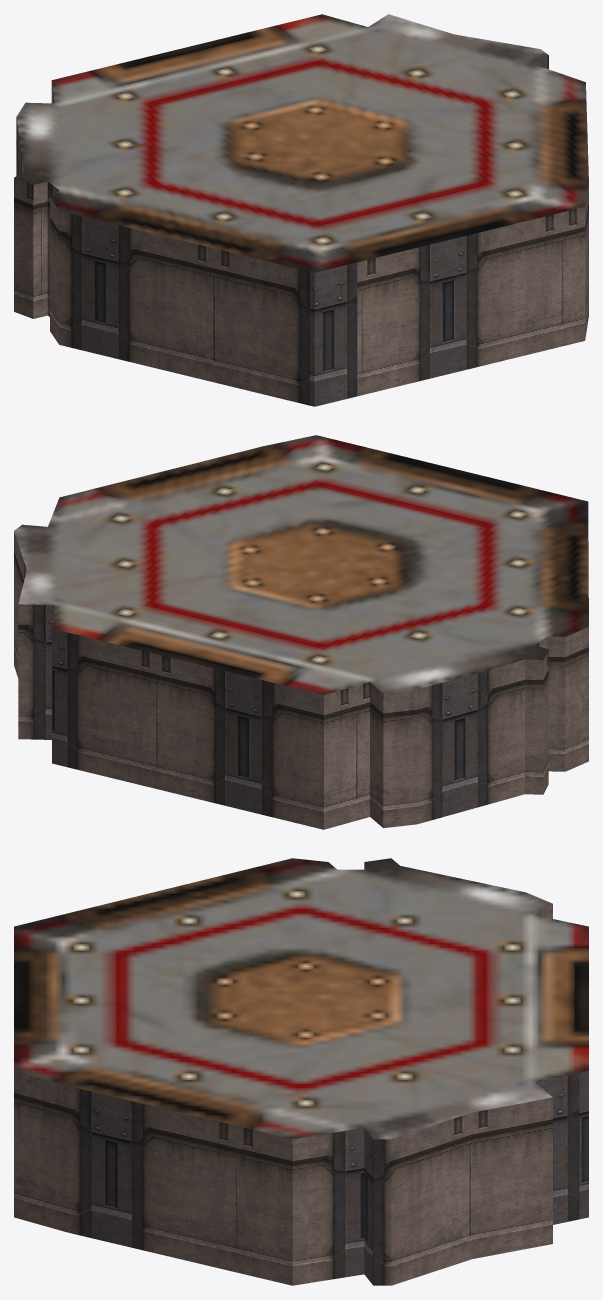
Rendered from bsealed_medium_a_34.glb.
3 views of the same model, one above another, from view 1: azimuth 30°, elevation 25°; view 2: azimuth 150°, elevation 25°; view 3: azimuth 270°, elevation 25° (orthographic). The views are drawn at different scales.
Parts seen in each view (by area): view 1: buildings/saxarba/bsealed_medium/bsealed_medium_a_34; view 2: buildings/saxarba/bsealed_medium/bsealed_medium_a_34; view 3: buildings/saxarba/bsealed_medium/bsealed_medium_a_34.
Part boxes in pixels (box(x1,y1,x2,y2)): buildings/saxarba/bsealed_medium/bsealed_medium_a_34: box(14, 14, 588, 406); buildings/saxarba/bsealed_medium/bsealed_medium_a_34: box(14, 435, 588, 829); buildings/saxarba/bsealed_medium/bsealed_medium_a_34: box(14, 858, 588, 1285).
Bounding box in the file's own units: 74 × 18 × 64.
